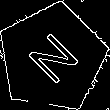N_SE: (20, 25, 85, 90)
